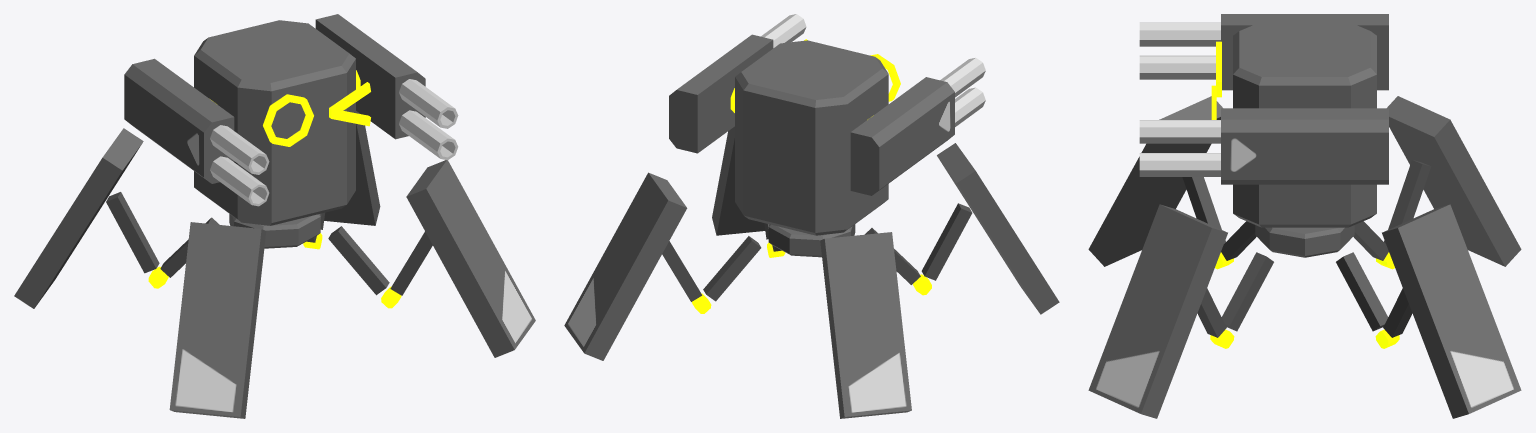
Rendered from turel_2.fbx.
3 renders of one model, left to right at view 1: azimuth 30°, elevation 25°; view 2: azimuth 150°, elevation 25°; view 3: azimuth 270°, elevation 25°, orthographic. The views are drawn at different scales.
Visible parts, largest first — view 1: tower.001, turel.001; view 2: tower.001, turel.001; view 3: turel.001, tower.001.
Part boxes in pixels (box(x1,y1,x2,y2)): tower.001: box(124, 14, 458, 225); turel.001: box(14, 111, 535, 418); tower.001: box(669, 14, 985, 235); turel.001: box(564, 126, 1059, 418); turel.001: box(1088, 96, 1521, 418); tower.001: box(1139, 14, 1388, 227).
Bounding box in the file's own units: 731 × 510 × 710.
